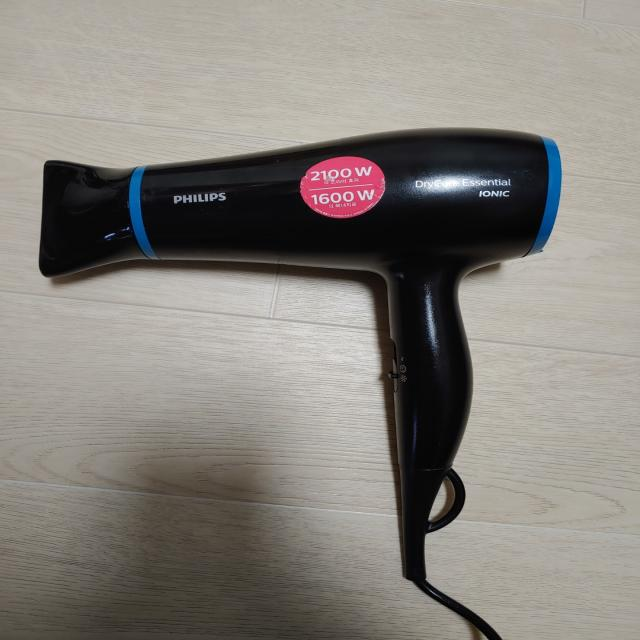dryer: (35, 124, 568, 582)
